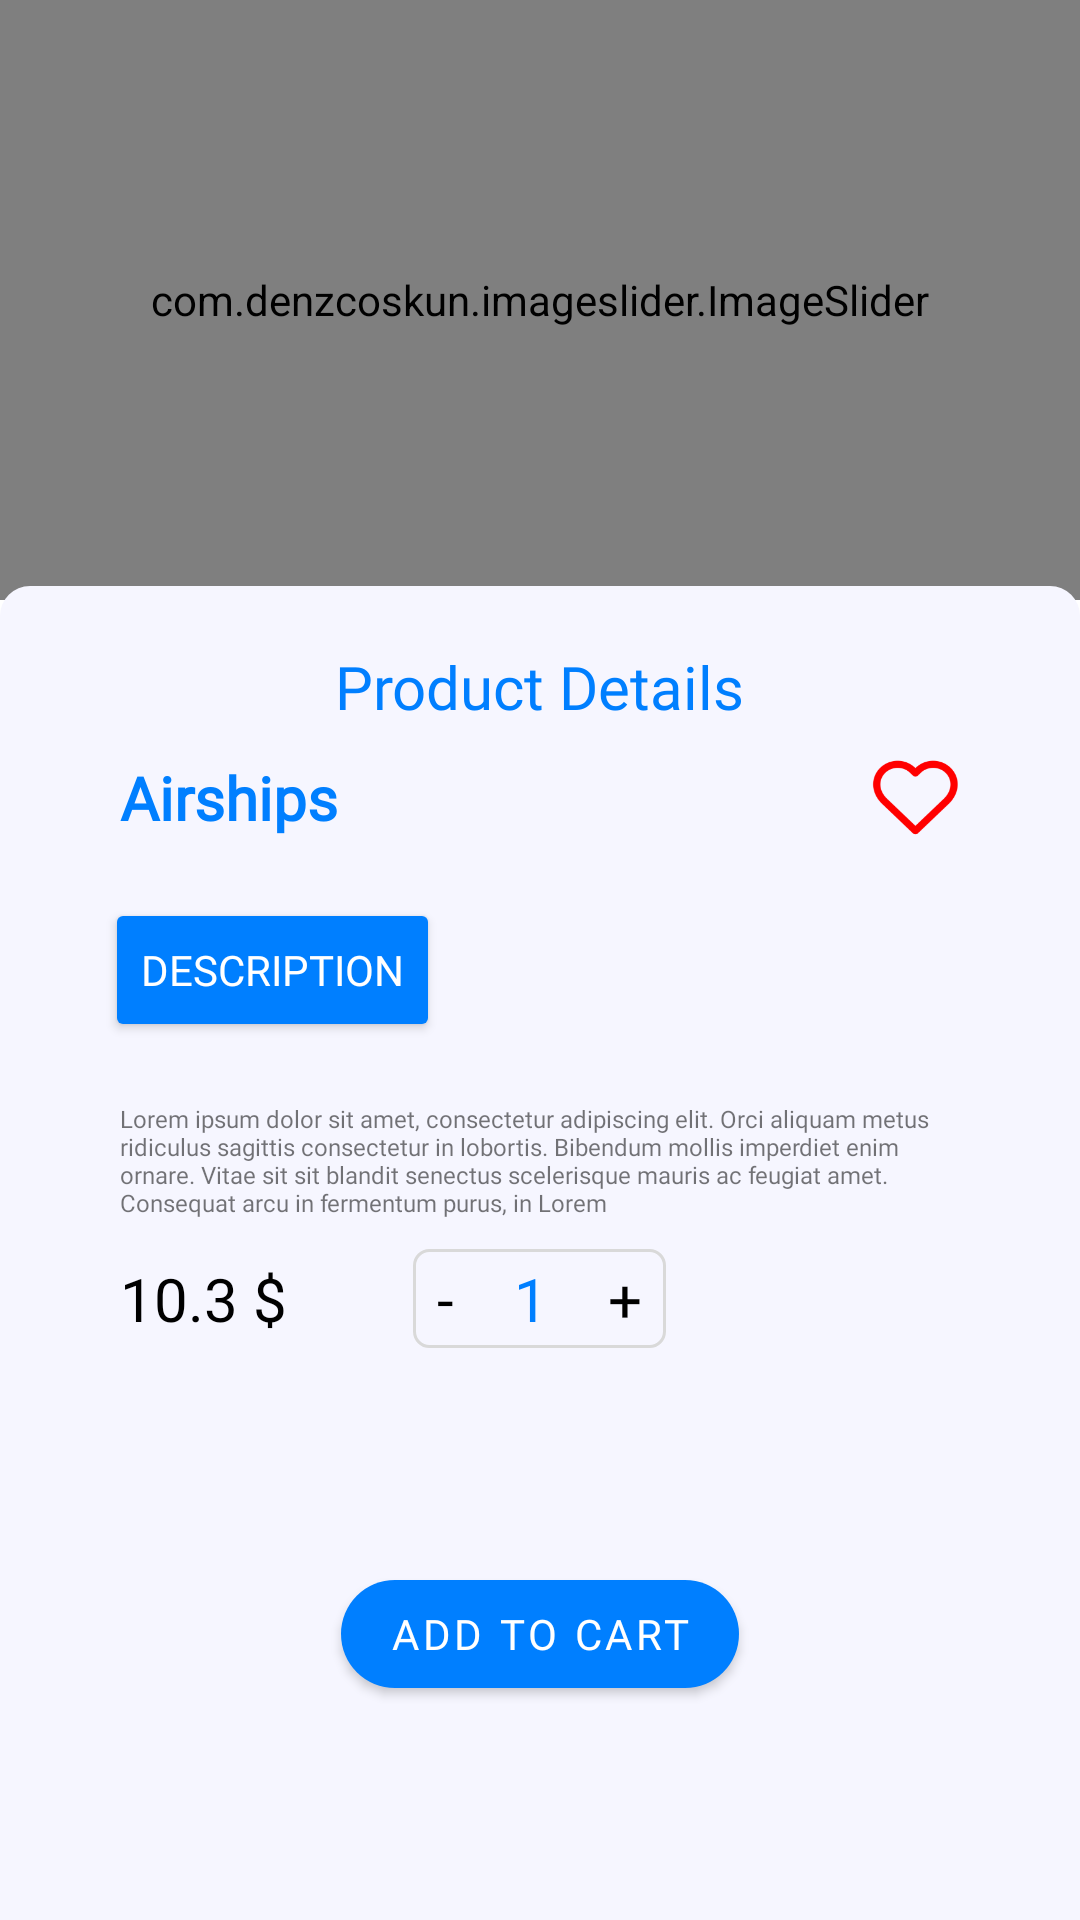

Point at icon controls on the screen. Image size 1080 x 1920, points as point (x, y).
fav: point (915, 797)
